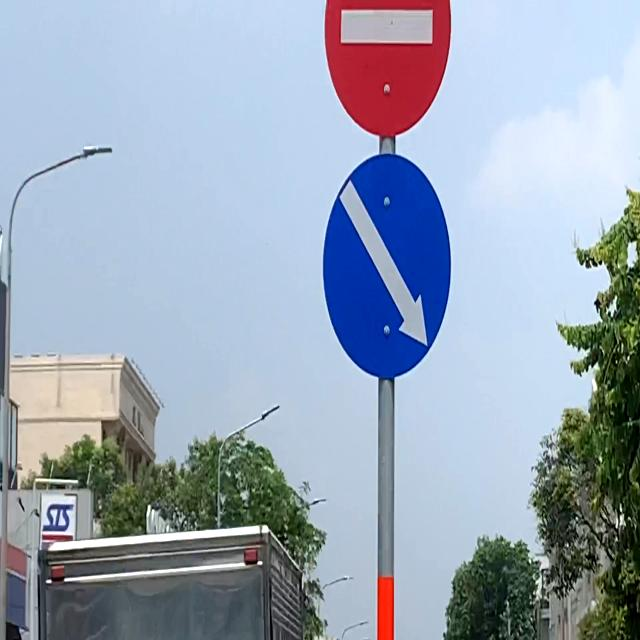P.102: (323, 0, 458, 139)
R.302a: (319, 144, 456, 384)
